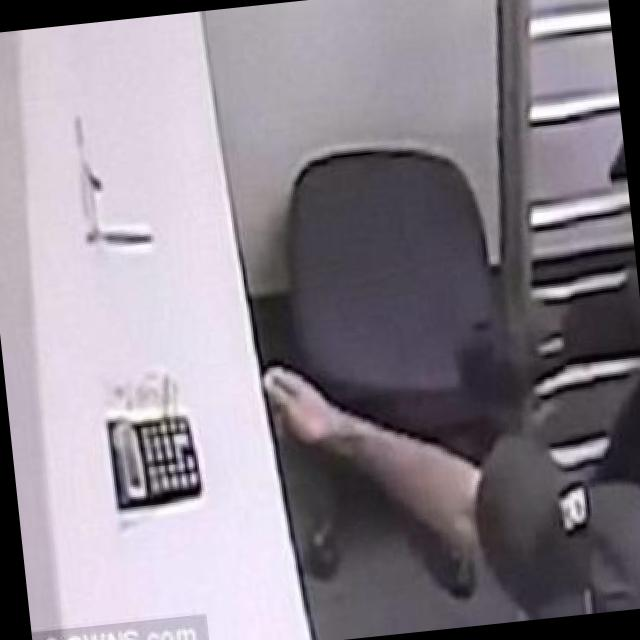Guns: (579, 44, 628, 195)
